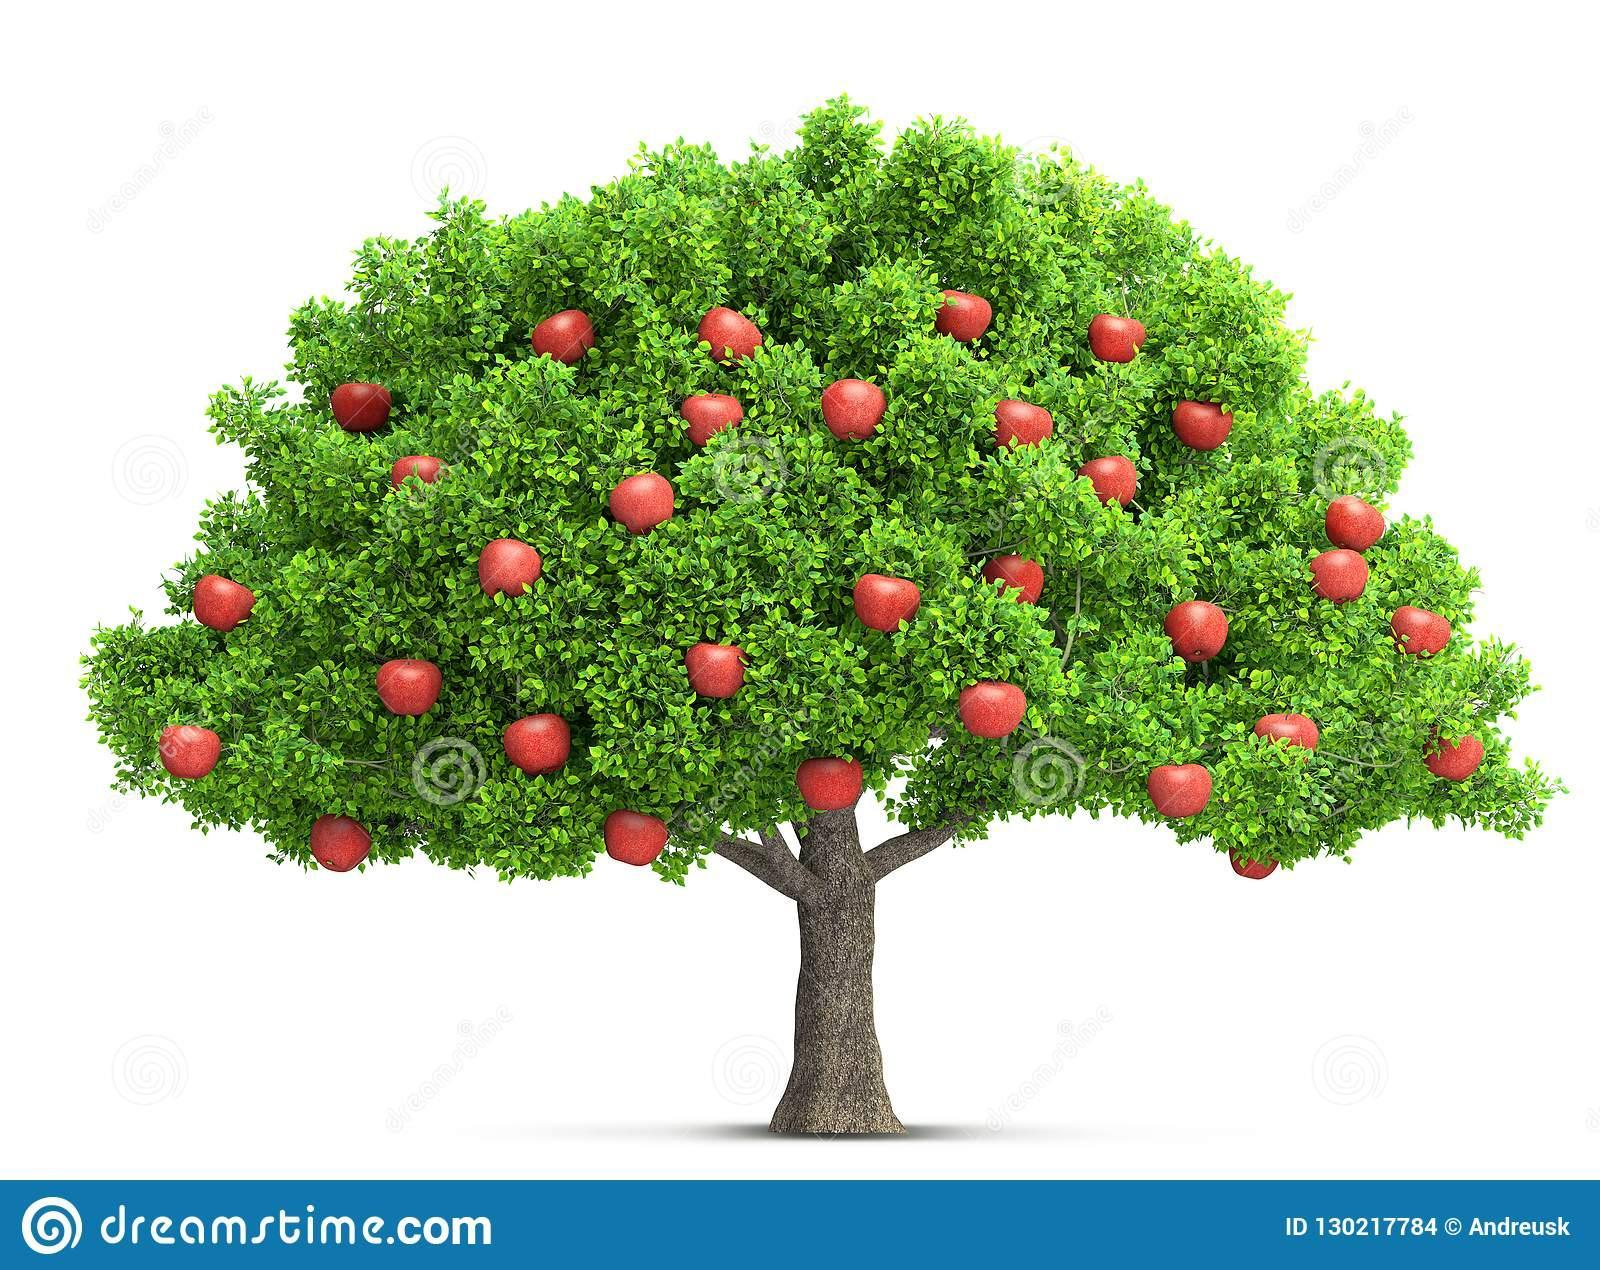apple: (194, 569, 265, 631), (295, 806, 366, 869), (1316, 495, 1387, 557), (1251, 705, 1322, 767), (1390, 604, 1461, 666), (529, 308, 600, 370), (1219, 822, 1291, 884), (796, 753, 868, 816), (958, 680, 1030, 743), (683, 638, 755, 700), (696, 304, 768, 366), (600, 808, 671, 870), (610, 470, 681, 532), (984, 552, 1055, 614), (501, 718, 571, 780), (1306, 545, 1377, 608), (1419, 725, 1490, 787), (158, 718, 229, 780), (1153, 762, 1223, 825), (675, 388, 745, 451), (1168, 397, 1239, 458), (849, 567, 921, 629), (471, 532, 542, 593), (377, 654, 443, 714), (938, 288, 997, 351), (1090, 306, 1148, 370), (826, 378, 884, 442), (997, 393, 1056, 457), (1078, 449, 1136, 512), (329, 380, 391, 435), (392, 454, 445, 487)
